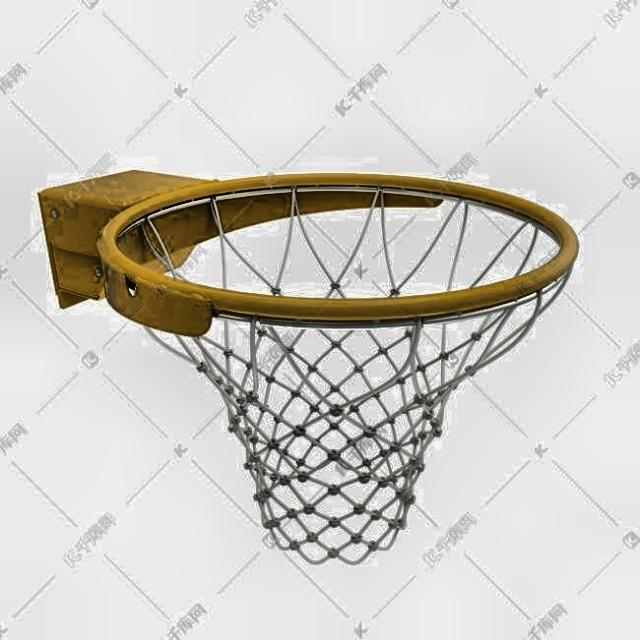rim: (99, 173, 578, 563)
